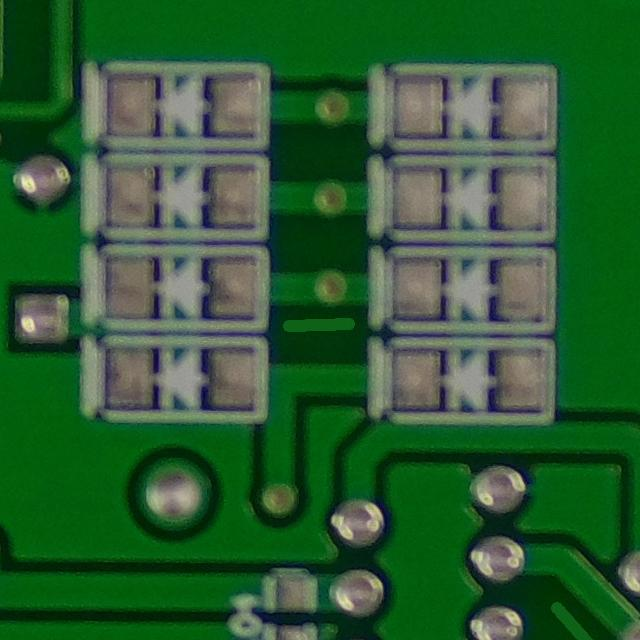spurious_copper: (274, 295, 366, 345)
